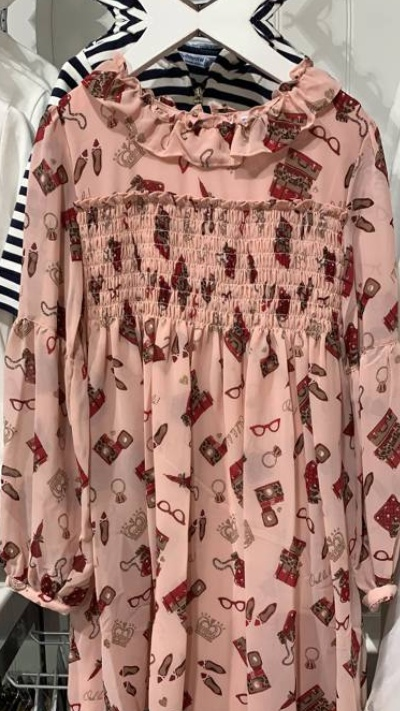Dress: (0, 58, 396, 711)
